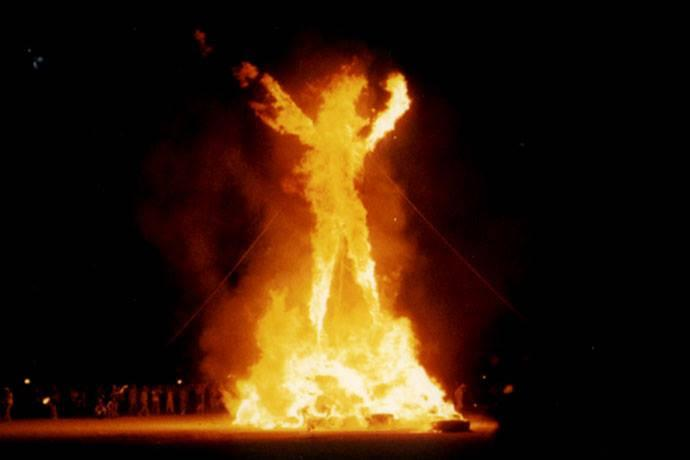fire: (283, 339, 416, 415), (314, 124, 358, 234)
